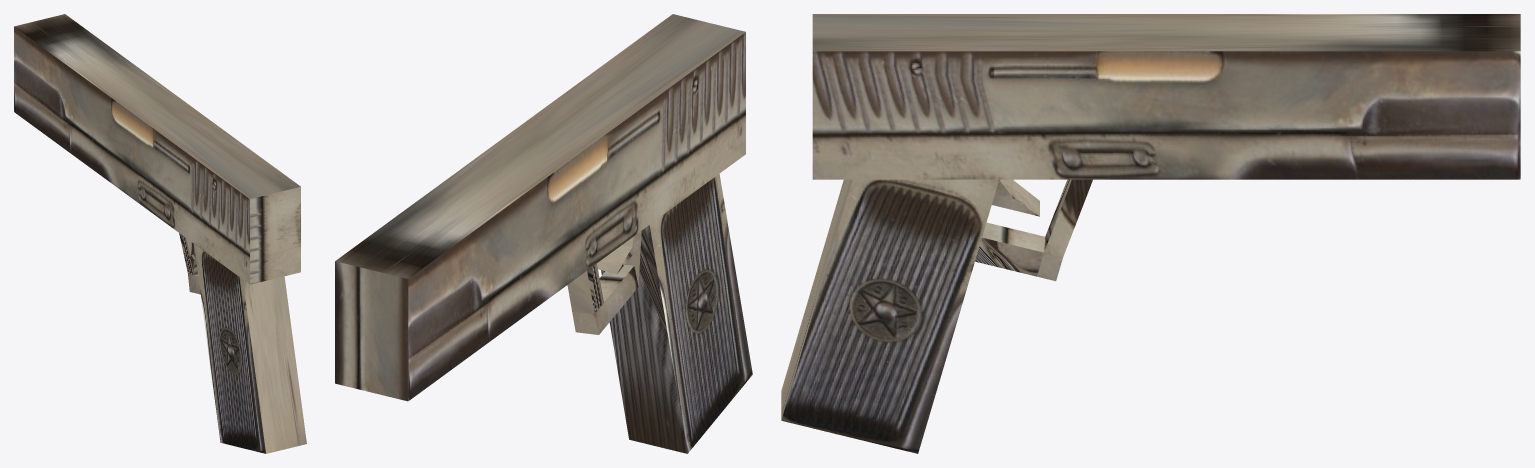
Rendered from pistol.glb.
3 renders of one model, left to right at view 1: azimuth 30°, elevation 25°; view 2: azimuth 150°, elevation 25°; view 3: azimuth 270°, elevation 25°, orthographic. The views are drawn at different scales.
Visible parts, largest first — view 1: Pistol; view 2: Pistol; view 3: Pistol.
Part boxes in pixels (x1,y1,x2,y2): Pistol: (14, 14, 306, 453); Pistol: (335, 14, 752, 453); Pistol: (781, 14, 1520, 453).
Size of the model in its own units: 0.25 by 1.27 by 2.09.
Materials: 1 (1 with a texture image).
